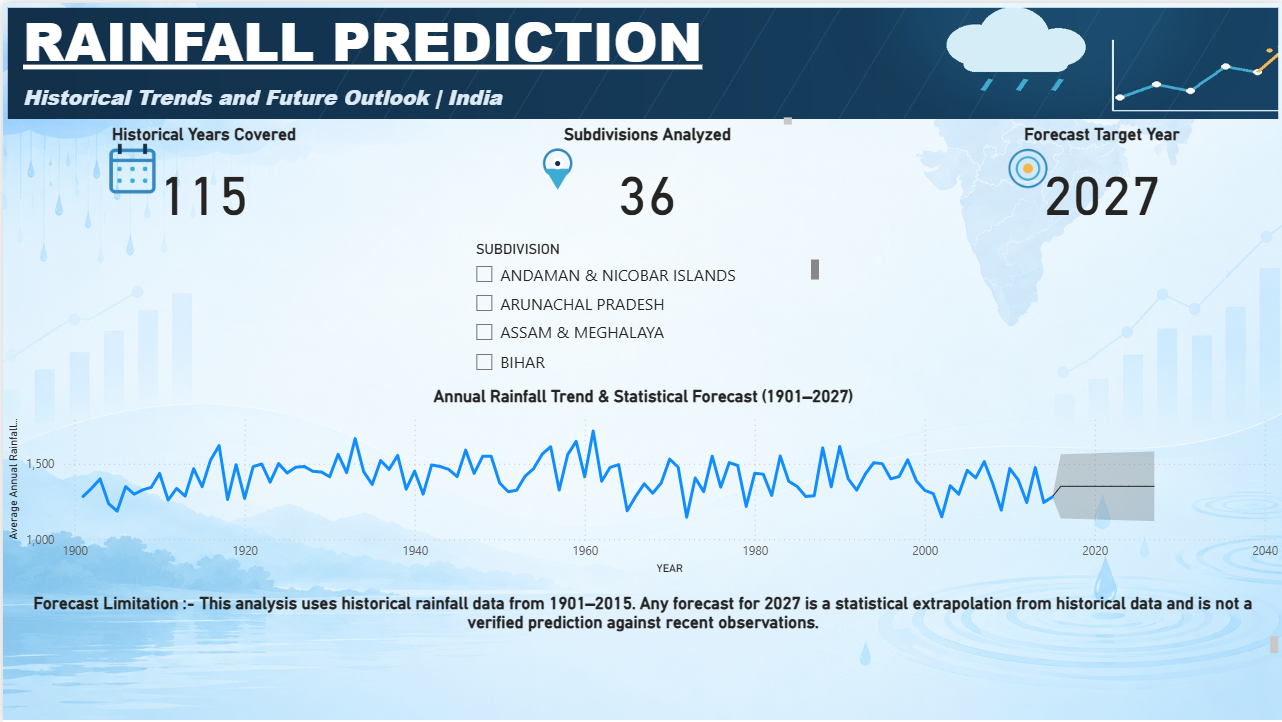

Layout of this report page (visuals, bound fields, positions):
{"tool":"powerbi","page":{"name":"Rainfall Prediction","canvas":[1280,720],"ordinal":2},"visuals":[{"type":"image","box":[0,0,1280,121.2],"z":0},{"type":"textbox","title":"RAINFALL PREDICTION","box":[20,0,768.8,121.2],"z":1000},{"type":"lineChart","title":"Annual Rainfall Trend & Statistical Forecast (1901–2027)","fields":{"Category":["HistoricalRainfall.YEAR"],"Y":["HistoricalRainfall.Average Annual Rainfall (mm)"]},"box":[0,382.5,1280,193.8],"z":2000},{"type":"card","title":"Historical Years Covered","fields":{"Values":["HistoricalRainfall.Years Covered"]},"box":[20.6,120.8,362.3,111.1],"z":3000},{"type":"card","title":"Forecast Target Year","fields":{"Values":["HistoricalRainfall.Forecast Target Year"]},"box":[917.1,121.4,362.9,110],"z":4000},{"type":"card","title":"Subdivisions Analyzed","fields":{"Values":["HistoricalRainfall.Subdivisions Analyzed"]},"box":[464.3,121.4,361.4,111.4],"z":5000},{"type":"image","box":[83.8,125,91.2,83.8],"z":5001},{"type":"image","box":[513.8,135,81.2,62.5],"z":5002},{"type":"image","box":[992.5,133.8,65,63.8],"z":5003},{"type":"slicer","fields":{"Values":["HistoricalRainfall.SUBDIVISION"]},"box":[460,232.5,361.2,150],"z":5004},{"type":"textbox","title":"Forecast Limitation :-  This analysis uses historical rainfall data from 1901–2015. Any forecast for 2027 is a statistical extrapolation from historical data and is not a verified prediction against r","box":[0,590,1280,65],"z":5005}]}

Visuals, with their boxes in screenshot pixels (x1, y1, x2, y2), scaled from the page's 1280x720 canvas onto the 1282x722 screenshot:
image: BBox(0, 0, 1281, 122)
"RAINFALL PREDICTION" textbox: BBox(20, 0, 790, 122)
"Annual Rainfall Trend & Statistical Forecast (1901–2027)" lineChart: BBox(0, 384, 1281, 578)
"Historical Years Covered" card: BBox(21, 121, 383, 233)
"Forecast Target Year" card: BBox(919, 122, 1281, 232)
"Subdivisions Analyzed" card: BBox(465, 122, 827, 233)
image: BBox(84, 125, 175, 209)
image: BBox(515, 135, 596, 198)
image: BBox(994, 134, 1059, 198)
slicer - HistoricalRainfall.SUBDIVISION: BBox(461, 233, 822, 384)
"Forecast Limitation :-  This analysis uses historical rainfall data from 1901–2015. Any forecast for 2027 is a statistical extrapolation from historical data and is not a verified prediction against r" textbox: BBox(0, 592, 1281, 657)
